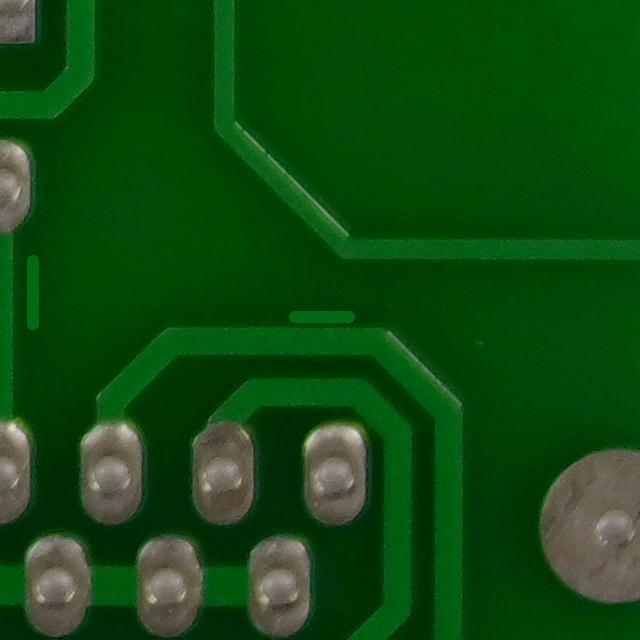spurious_copper: (280, 292, 361, 349)
